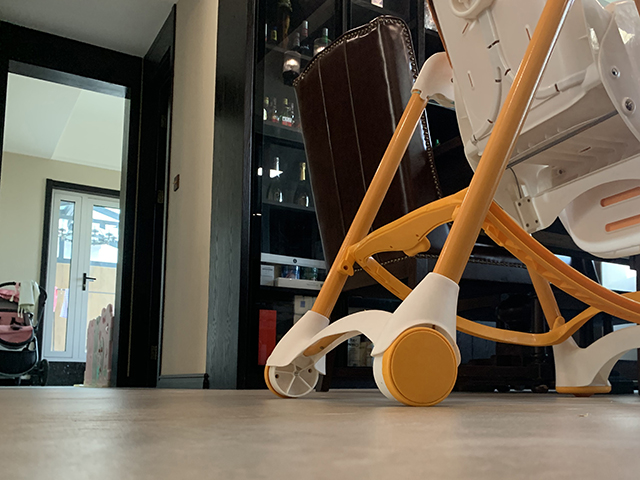cabinet: (203, 2, 362, 390)
stool: (292, 13, 549, 392)
